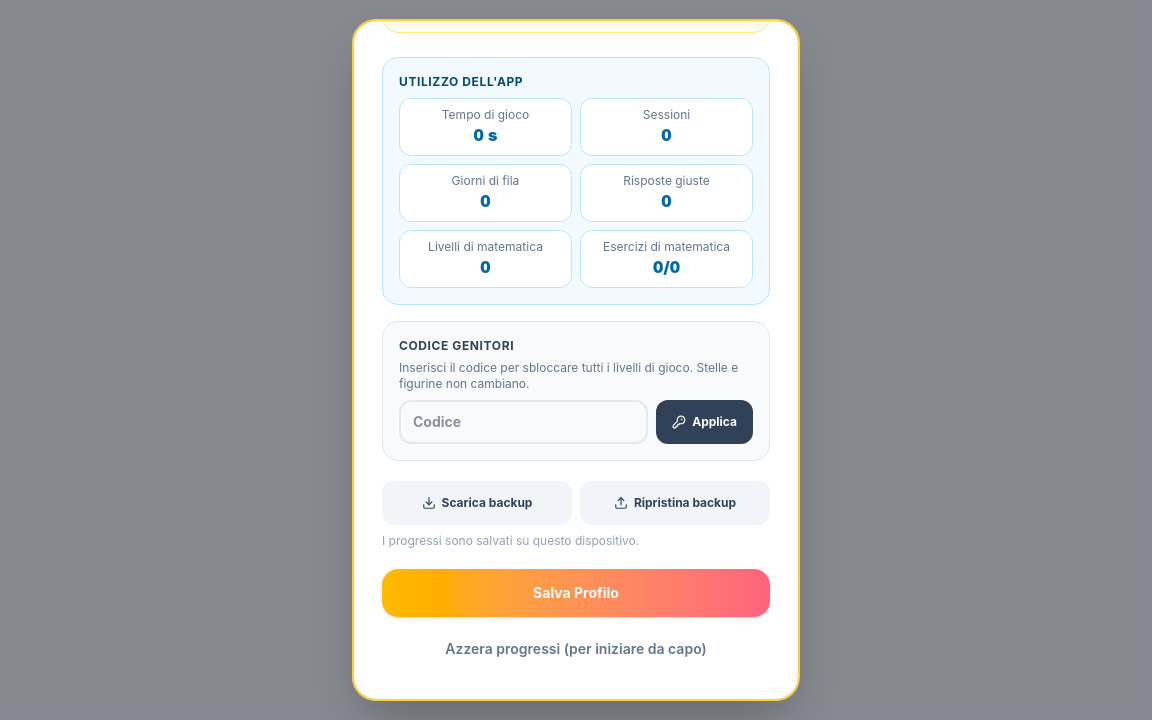
Test case: ProfileModal › downloads a backup
(page scrolled)
Click the button "Scarica backup" at (477, 503), box [382,481,572,525]
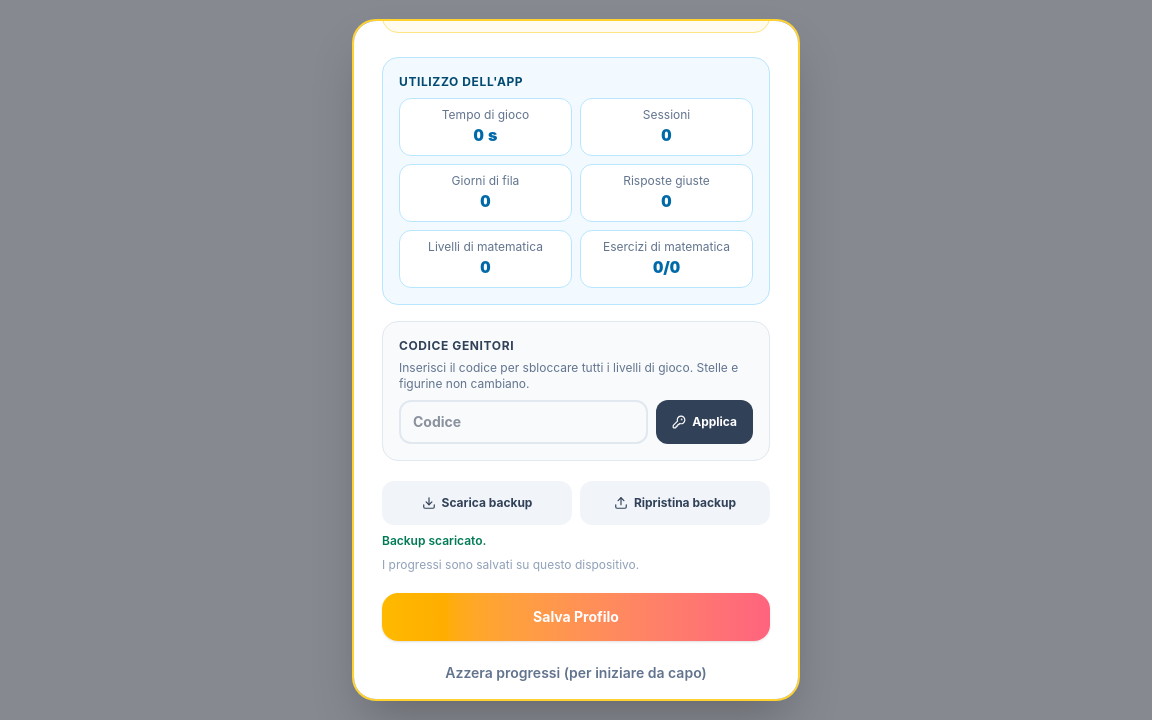
Check: the message shows "Backup scaricato", box [382,533,486,548]
